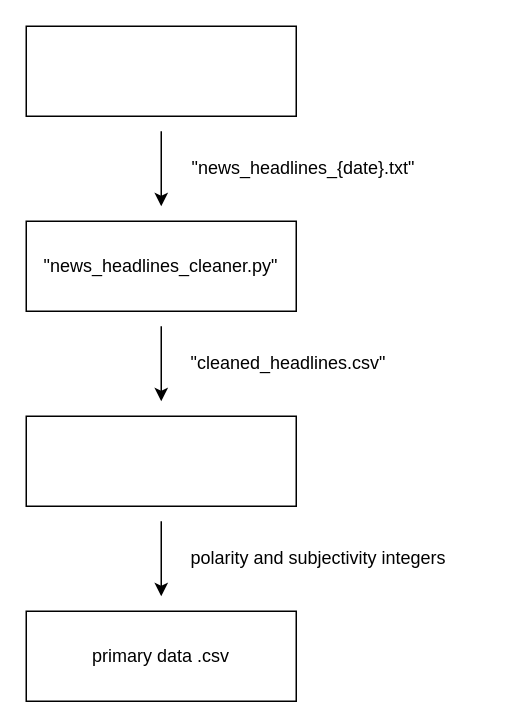
The diagram is 525 pixels wide and 728 high, and some of its shapes have lost their labels. The centre of each missing label's shape, as x and y in pixels:
"fetch_write_headlines_v3.py": point 160,70
"sentiment_analysis.py": point 160,460
